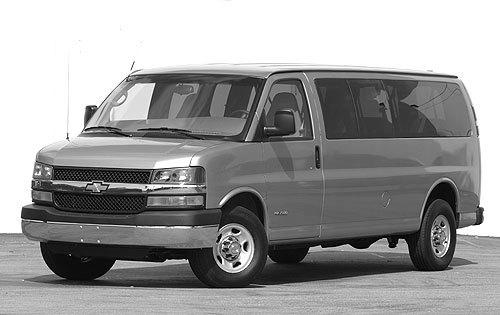car: (23, 62, 486, 289)
